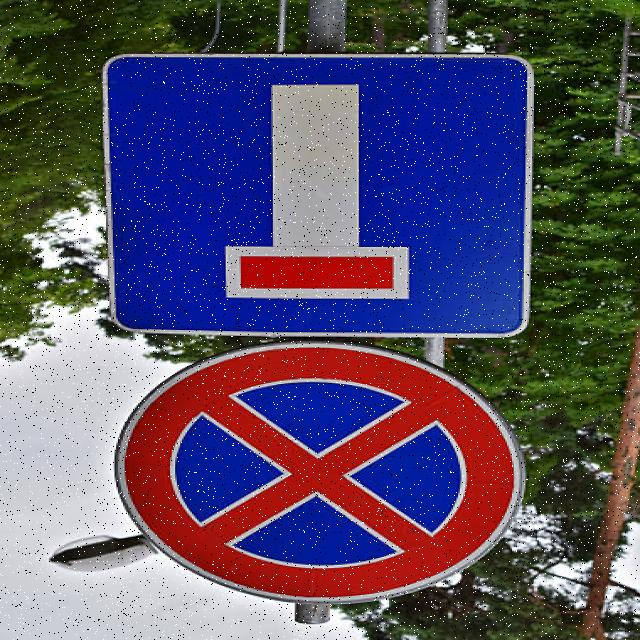no_parking: (104, 329, 532, 611)
